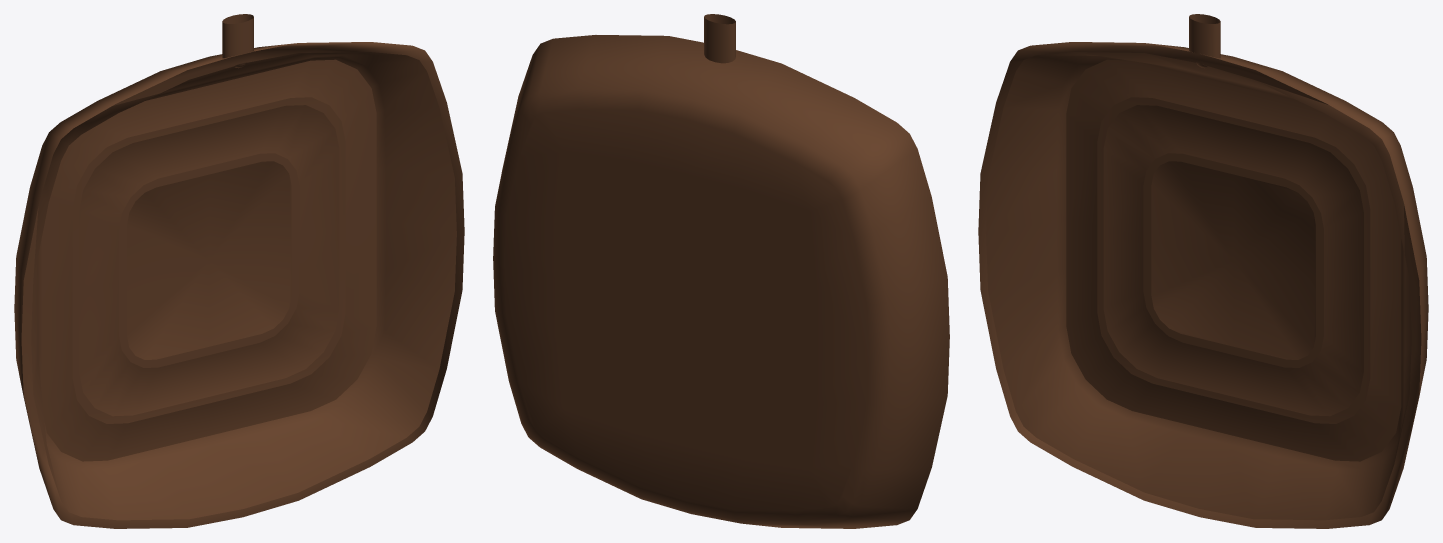
File: MeshPan_7_0_GeomSubset_0.obj
3 renders of one model, left to right at view 1: azimuth 30°, elevation 25°; view 2: azimuth 150°, elevation 25°; view 3: azimuth 330°, elevation 25°, orthographic.
Parts seen in each view (by area): view 1: MeshPan_7_0_GeomSubset_0; view 2: MeshPan_7_0_GeomSubset_0; view 3: MeshPan_7_0_GeomSubset_0.
Part boxes in pixels (<box>): MeshPan_7_0_GeomSubset_0: <box>14,14,464,528</box>; MeshPan_7_0_GeomSubset_0: <box>493,14,949,528</box>; MeshPan_7_0_GeomSubset_0: <box>978,14,1428,528</box>.
Size of the model in its own units: 0.2894 by 0.3086 by 0.0441.
